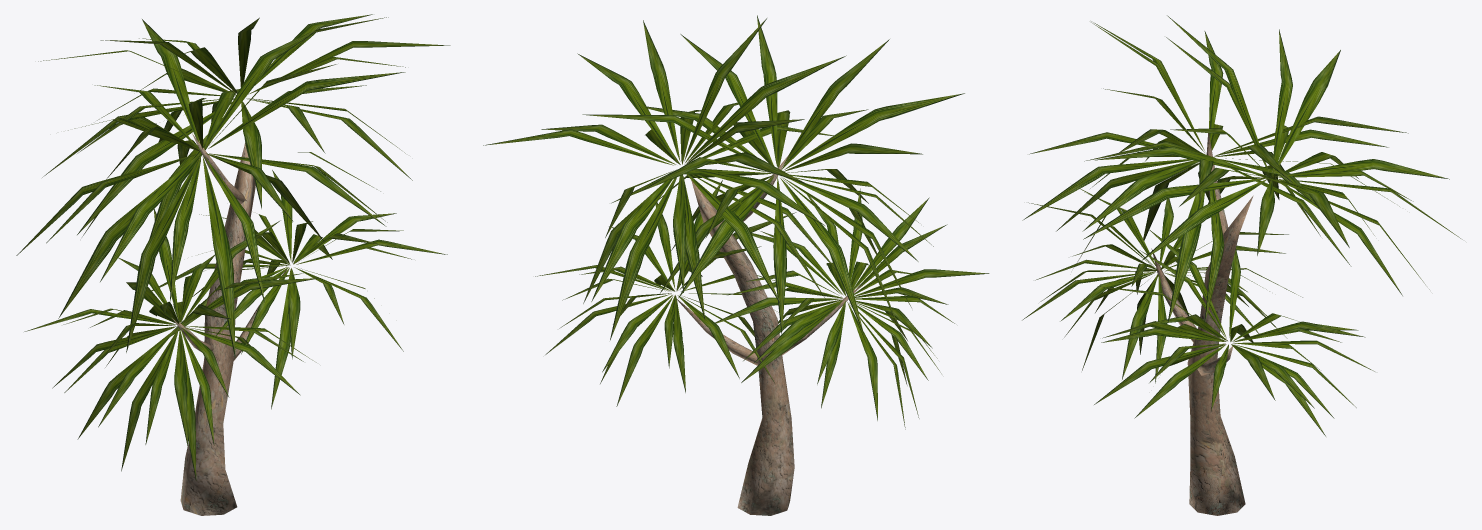
File: dra_LOD1.fbx
The picture shows the model from 3 angles, left to right: view 1: azimuth 30°, elevation 25°; view 2: azimuth 150°, elevation 25°; view 3: azimuth 270°, elevation 25°; orthographic projection. The views are drawn at different scales.
Visible parts, largest first — view 1: default2, default1; view 2: default2, default1; view 3: default2, default1.
Part boxes in pixels (x1,y1,x2,y2): default2: [16, 14, 450, 480]; default1: [172, 133, 286, 515]; default2: [483, 15, 989, 429]; default1: [677, 155, 862, 515]; default2: [1022, 15, 1462, 436]; default1: [1151, 133, 1253, 515].
Size of the model in its own units: 22.69 by 25.84 by 21.86.
